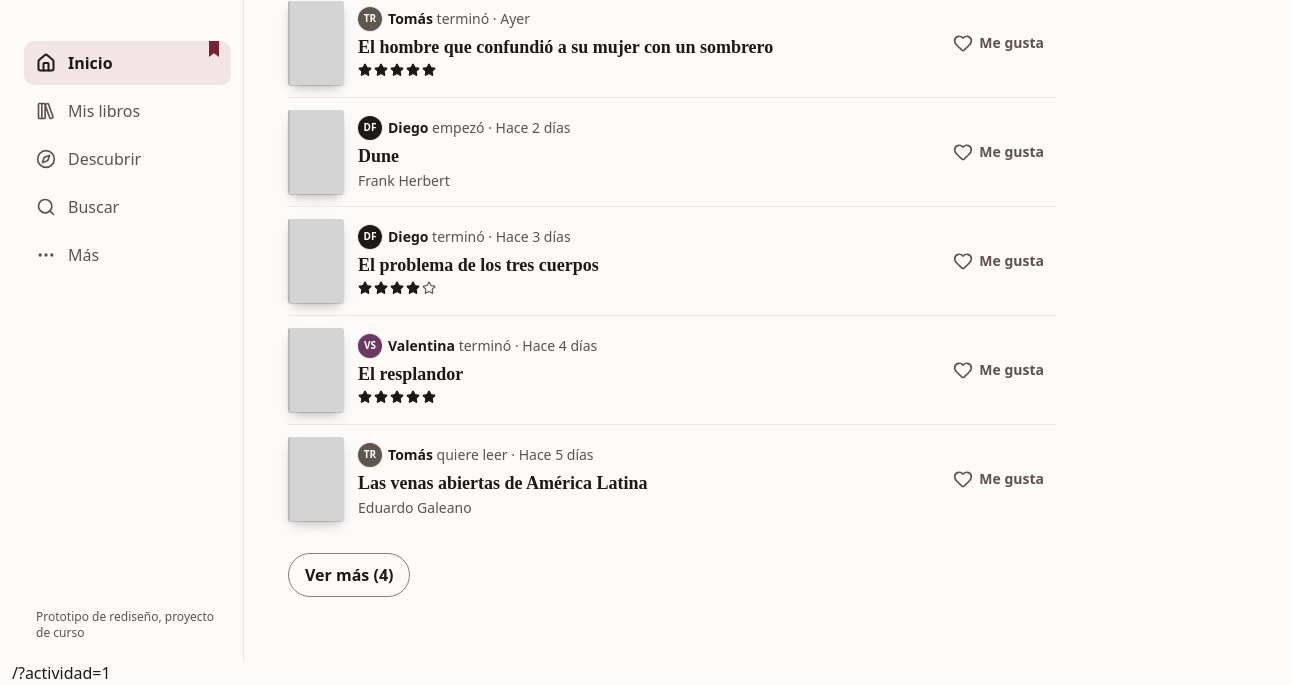
Scenario: activity view › grows by batches and ends clearly
The width and height of the screenshot is (1292, 685).
(page scrolled)
What coordinates should you click on to do the following:
click the button "Ver más (4)"
I would click on:
 (349, 575)
Its box is [288,553,410,597].
(page scrolled)
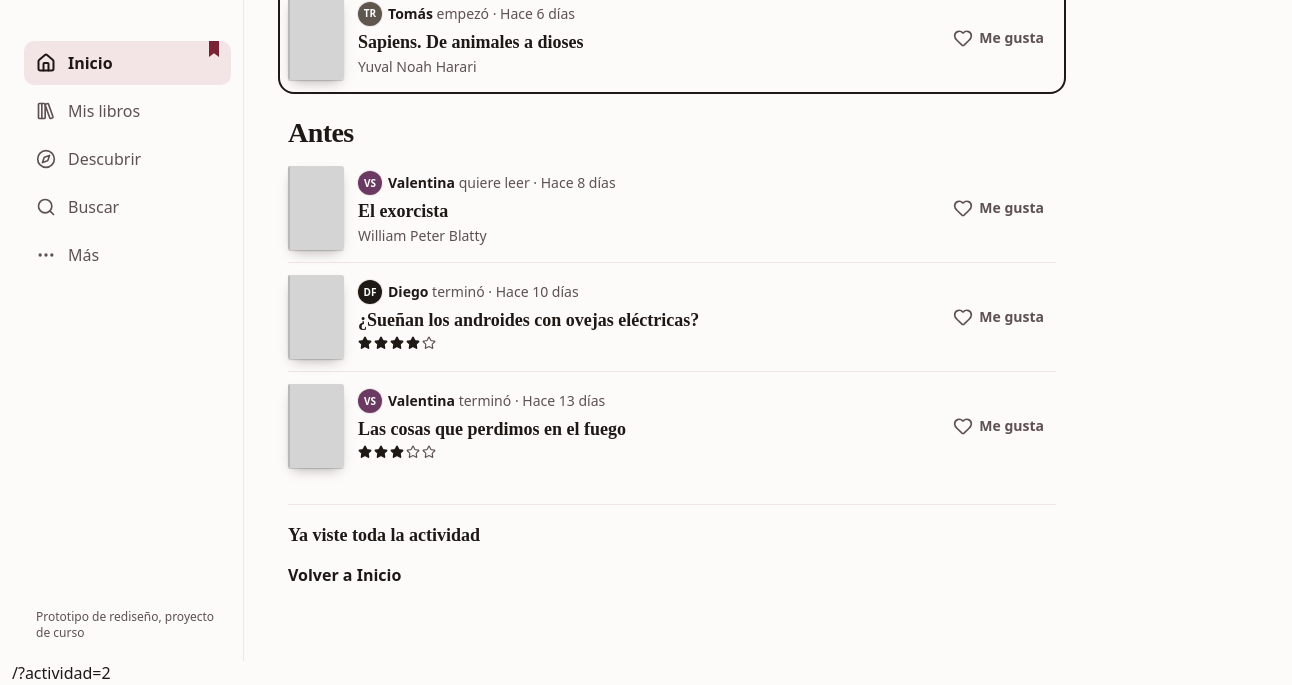
Now the text with test id "current-location" reads "/?actividad=2", box [12,662,111,684]
Now the button "Ver más" is gone
Now the text "Ya viste toda la actividad" is shown, box [288,525,480,545]
